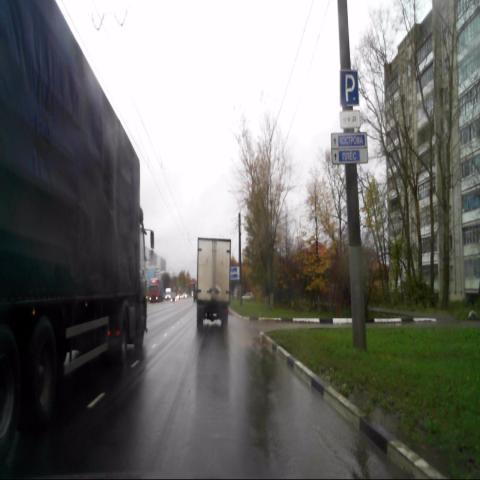8_8: (340, 109, 360, 128)
